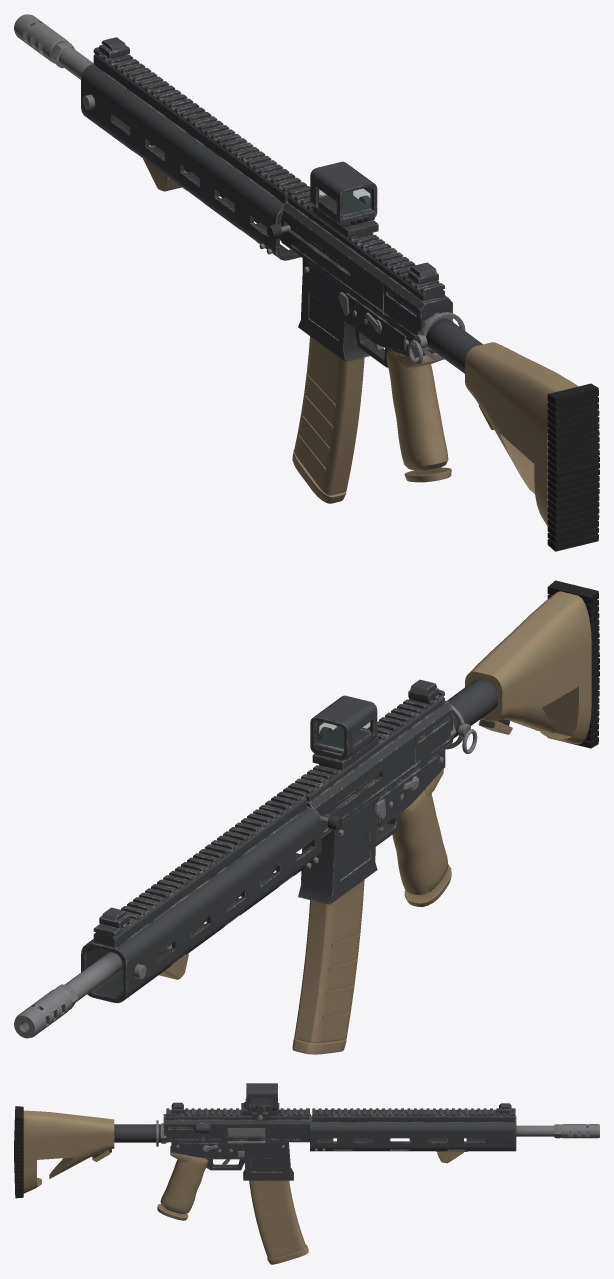
Rendered from changgeng.glb.
3 renders of one model, top to bottom at view 1: azimuth 30°, elevation 25°; view 2: azimuth 150°, elevation 25°; view 3: azimuth 270°, elevation 25°, orthographic. The views are drawn at different scales.
Parts seen in each view (by area): view 1: body, magazine; view 2: body, magazine; view 3: body, magazine, bolt.
Boxes of the visible parts, left/top/right/bottom form: body: left=14, top=14, right=599, bottom=551; magazine: left=292, top=336, right=364, bottom=503; body: left=14, top=580, right=599, bottom=1038; magazine: left=292, top=879, right=364, bottom=1054; body: left=14, top=1083, right=599, bottom=1220; magazine: left=249, top=1180, right=308, bottom=1264; bolt: left=228, top=1128, right=264, bottom=1136.
Bounding box in the file's own units: 0.058 × 0.3058 × 0.923.
Materials: 2 (1 with a texture image).
